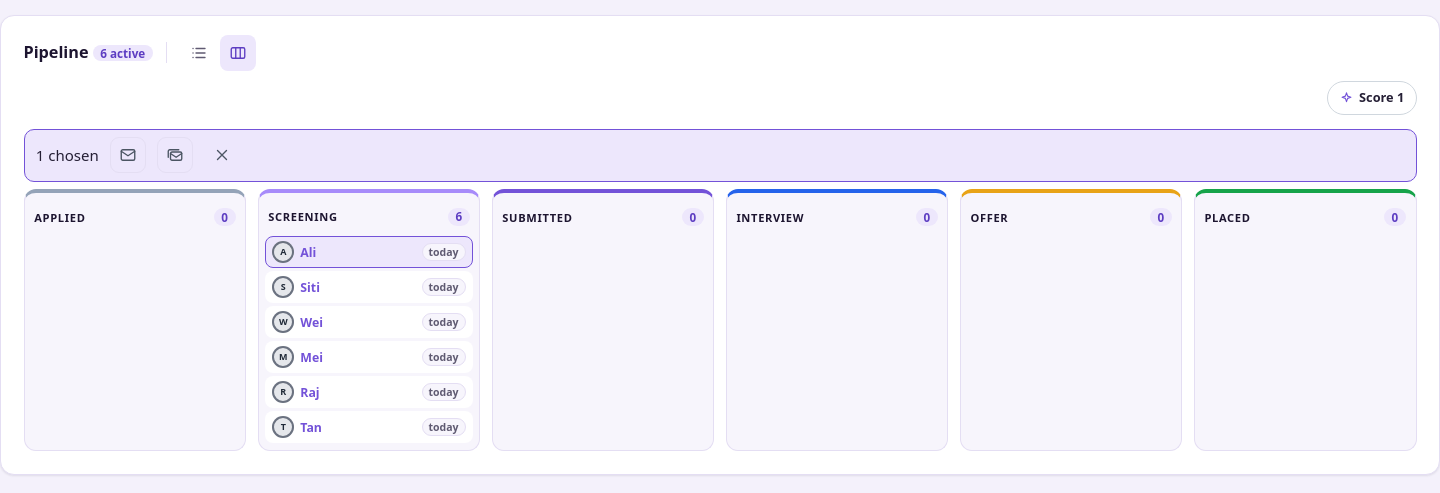
fit on a job's board › scores many chosen people a few at a time
Earlier steps of the test are not shown.
Click the link "Siti" at (310, 287), box [300,279,320,296]
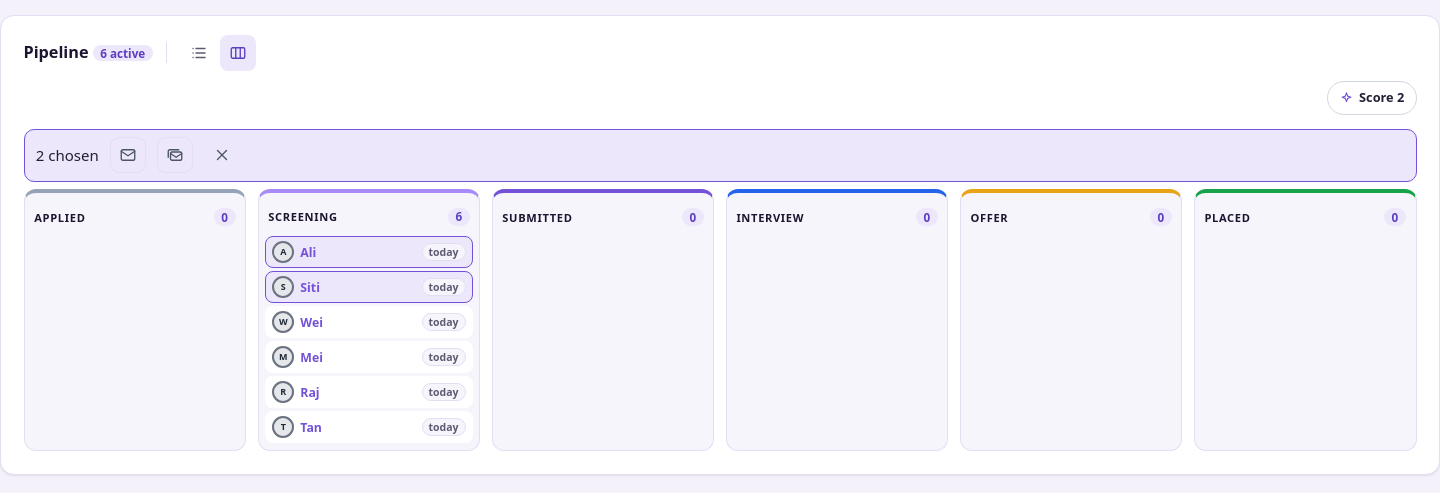
Click the link "Wei" at (312, 322), box [300,314,323,331]
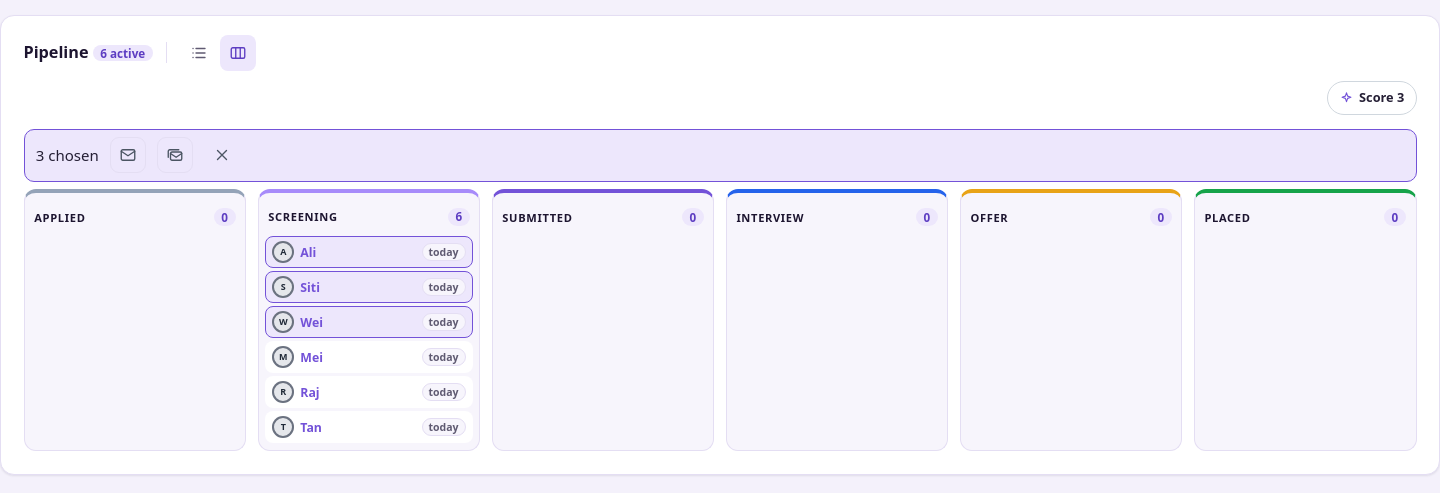
Click the link "Mei" at (312, 357), box [300,349,323,366]
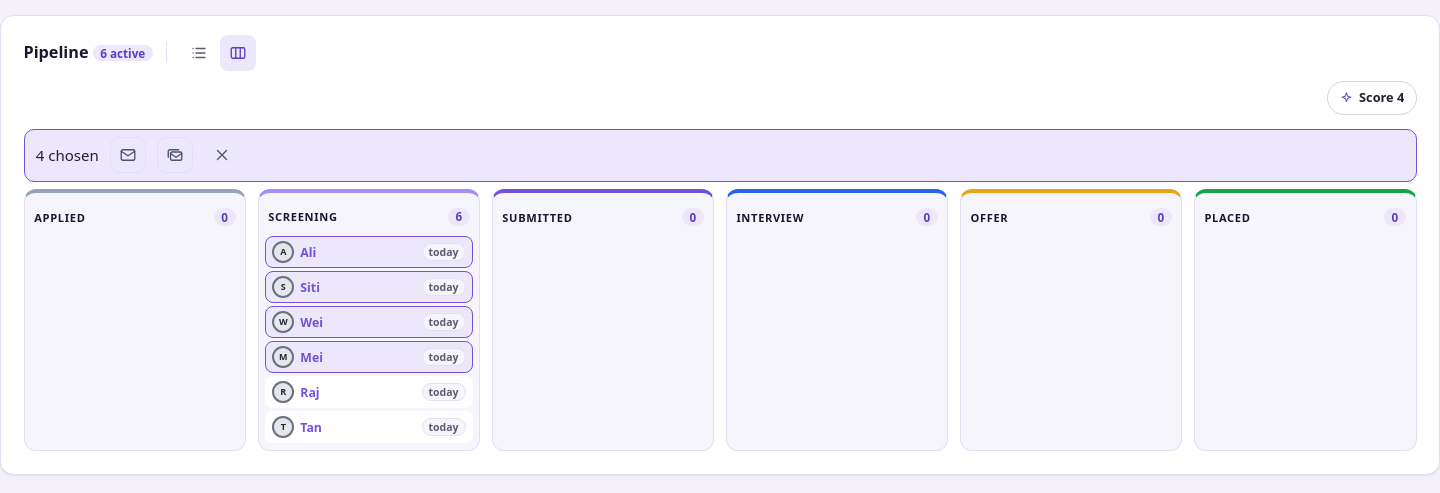
Click the link "Raj" at (310, 392), box [300,384,320,401]
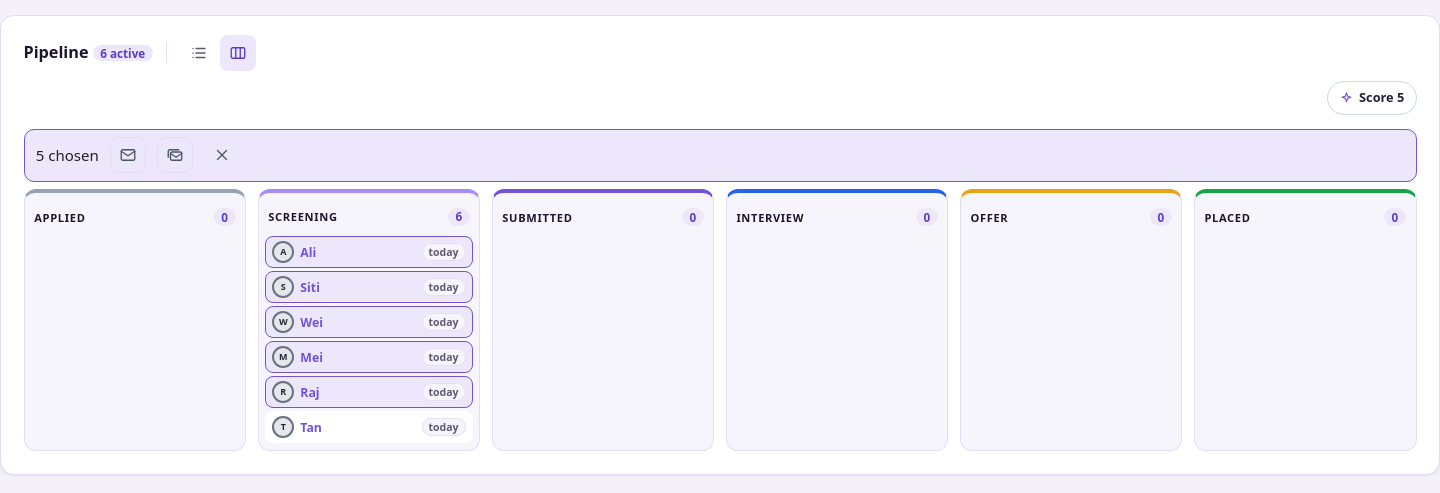
Click the link "Tan" at (311, 427), box [300,419,322,436]
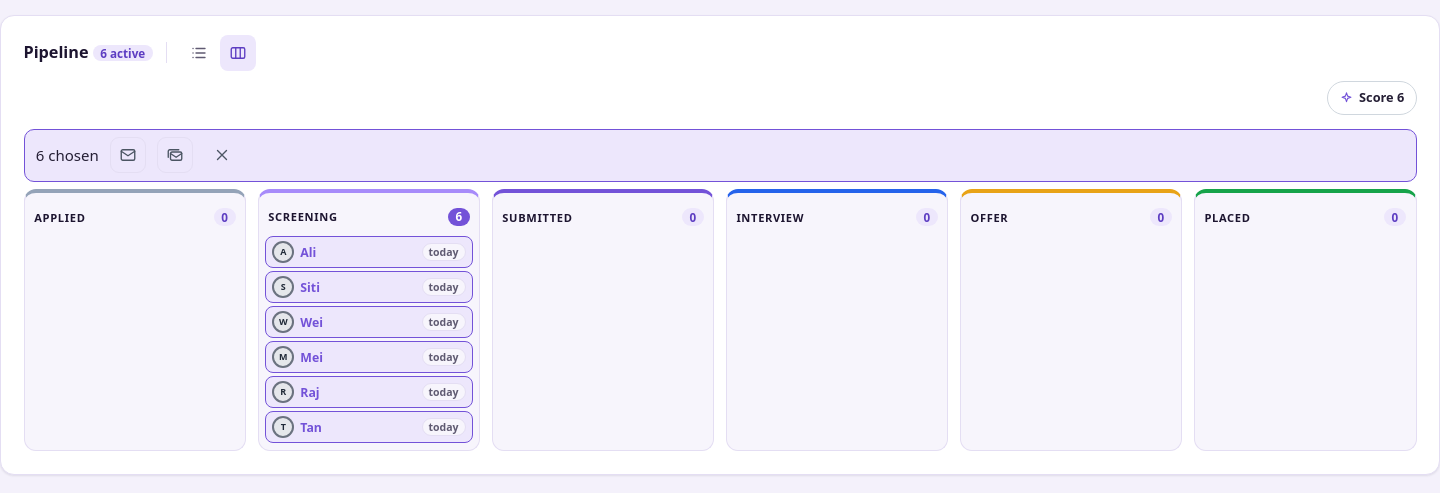
Click the button "Score 6" at (1372, 98), box [1327,81,1416,115]
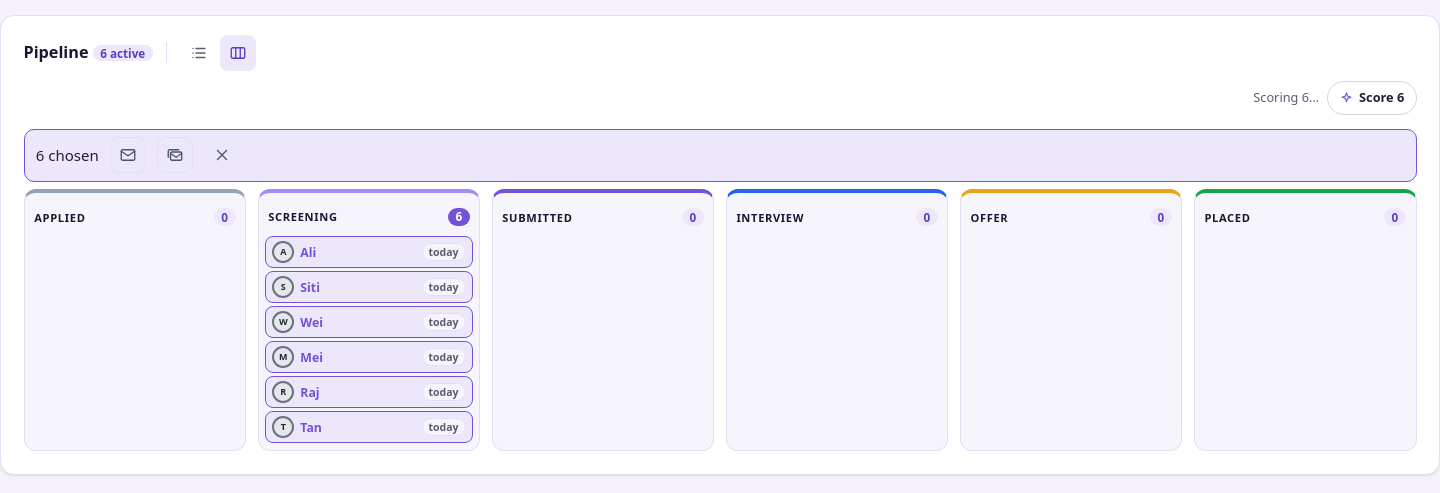
expect the text "Scoring 6…" is shown: met, box [1253,88,1319,108]
